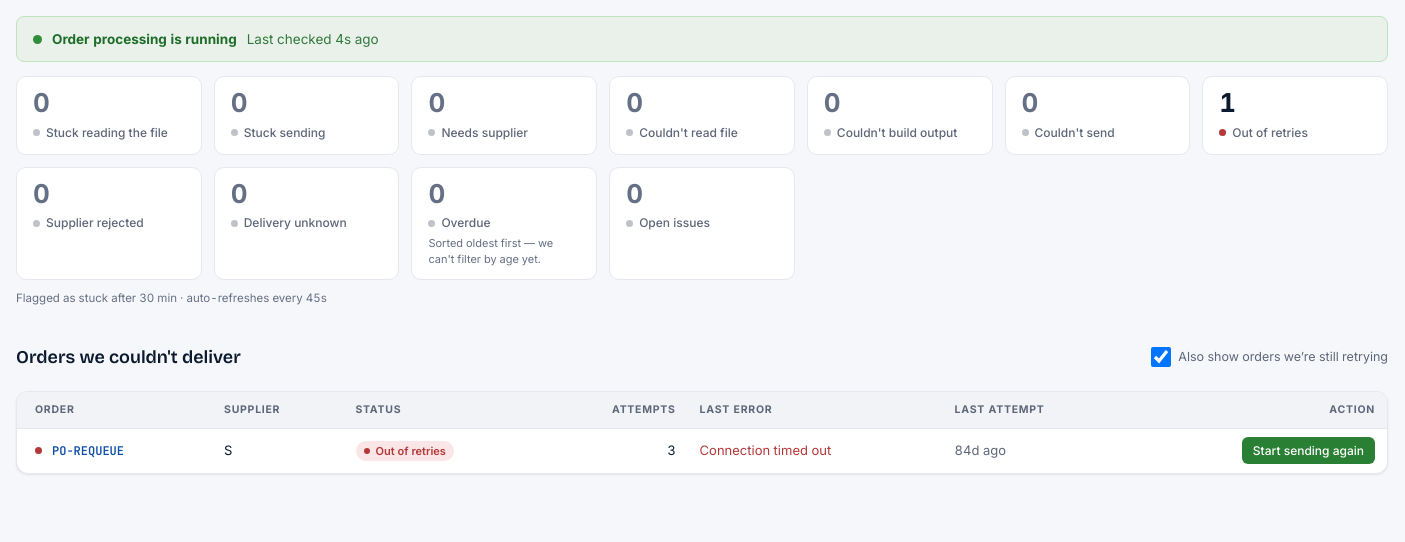
/operations/health — a requeue that fails with a gateway page › puts the cleaned reason in the notice, not the page source
The image size is (1405, 542).
Click the button "Start sending again".
click(1308, 451)  # box [1242,438,1375,464]
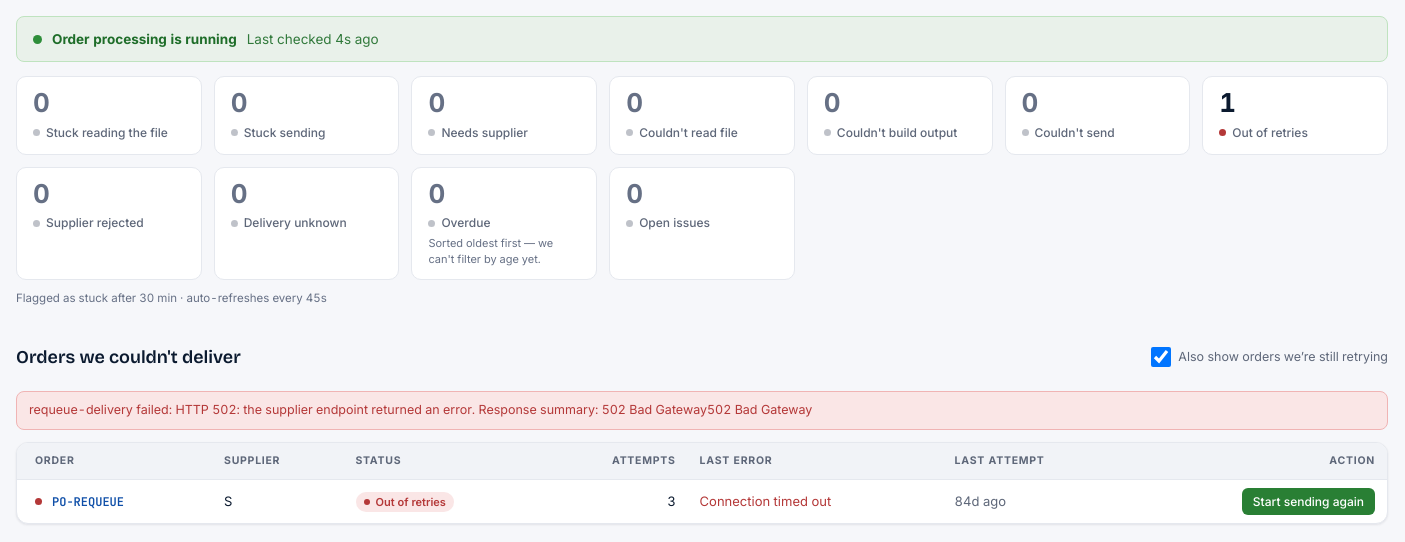
Result: the text "requeue-delivery failed" is shown at [29,402,812,418]
Result: the text "502" is shown at [29,402,812,418]
